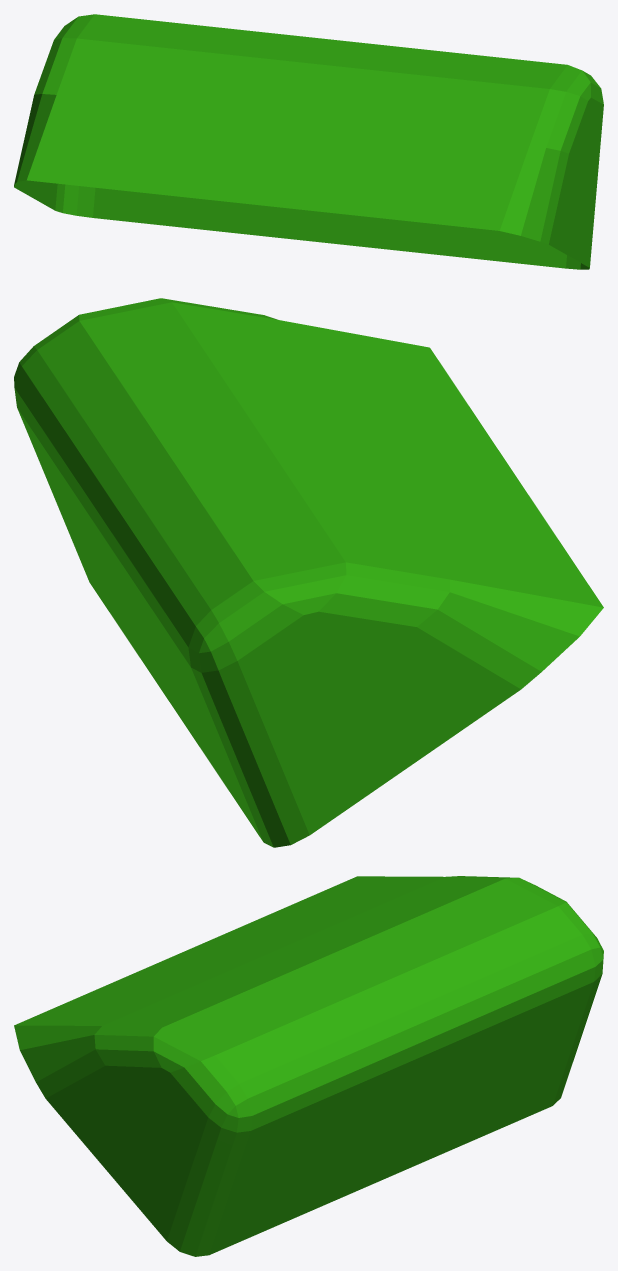
File: LambapraTapa.fbx
The picture shows the model from 3 angles, top to bottom: view 1: azimuth 30°, elevation 25°; view 2: azimuth 150°, elevation 25°; view 3: azimuth 270°, elevation 25°; orthographic projection. The views are drawn at different scales.
Visible parts, largest first — view 1: TapaLampara; view 2: TapaLampara; view 3: TapaLampara.
Boxes of the visible parts, <box> form: TapaLampara: <box>14,14,603,269</box>; TapaLampara: <box>14,298,603,847</box>; TapaLampara: <box>14,876,603,1256</box>.
Size of the model in its own units: 180 by 69.79 by 179.
